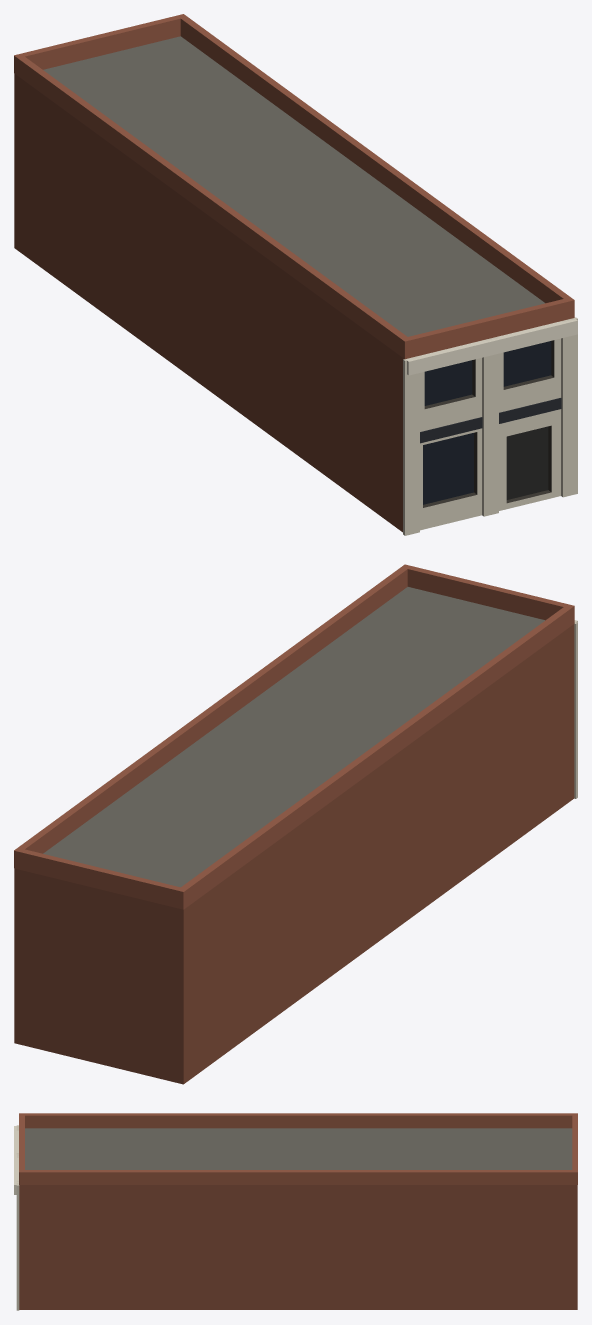
The model's file is twin-city-bank-1913.glb.
The picture shows the model from 3 angles, top to bottom: view 1: azimuth 30°, elevation 25°; view 2: azimuth 150°, elevation 25°; view 3: azimuth 270°, elevation 25°; orthographic projection. The views are drawn at different scales.
Visible parts, largest first — view 1: kit-twin-city-bank-1913; view 2: kit-twin-city-bank-1913; view 3: kit-twin-city-bank-1913.
Boxes of the visible parts, left/top/right/bottom form: kit-twin-city-bank-1913: left=14, top=14, right=577, bottom=535; kit-twin-city-bank-1913: left=14, top=564, right=577, bottom=1084; kit-twin-city-bank-1913: left=14, top=1113, right=577, bottom=1310.
Size of the model in its own units: 9.2 by 9.8 by 36.37.
